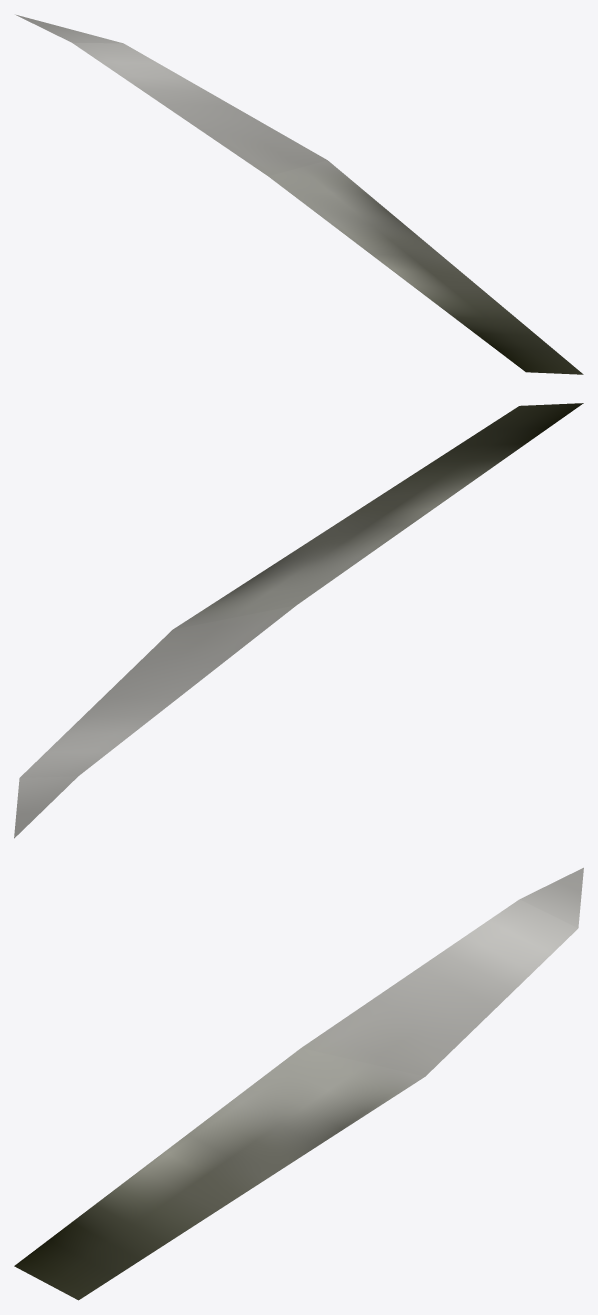
3 renders of one model, top to bottom at view 1: azimuth 30°, elevation 25°; view 2: azimuth 150°, elevation 25°; view 3: azimuth 330°, elevation 25°, orthographic. The views are drawn at different scales.
Bounding box in the file's own units: 0.127 × 0.0338 × 1.31.
Materials: 1 (1 with a texture image).
